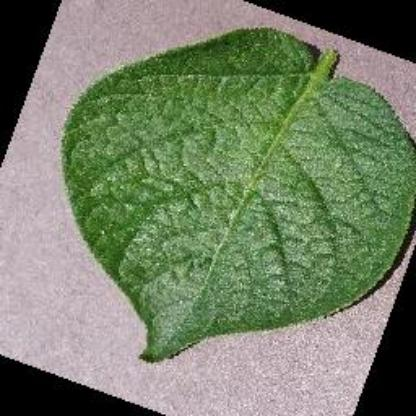Healthy-plant: (57, 22, 415, 362)
